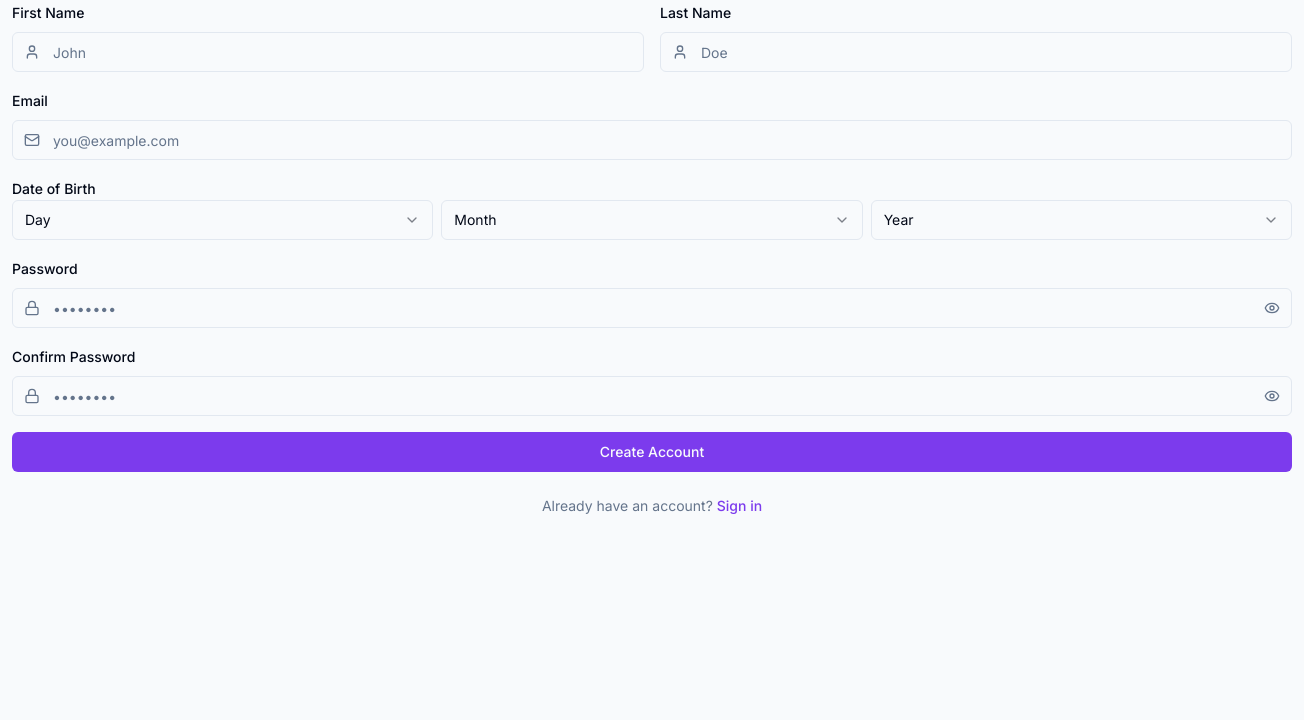
Test: SignupForm › should show password length error if less than 8 characters
The width and height of the screenshot is (1304, 720).
Step 1. Type "Short1!" into the password field labelled "Password" → (652, 308), box [12,288,1292,328]
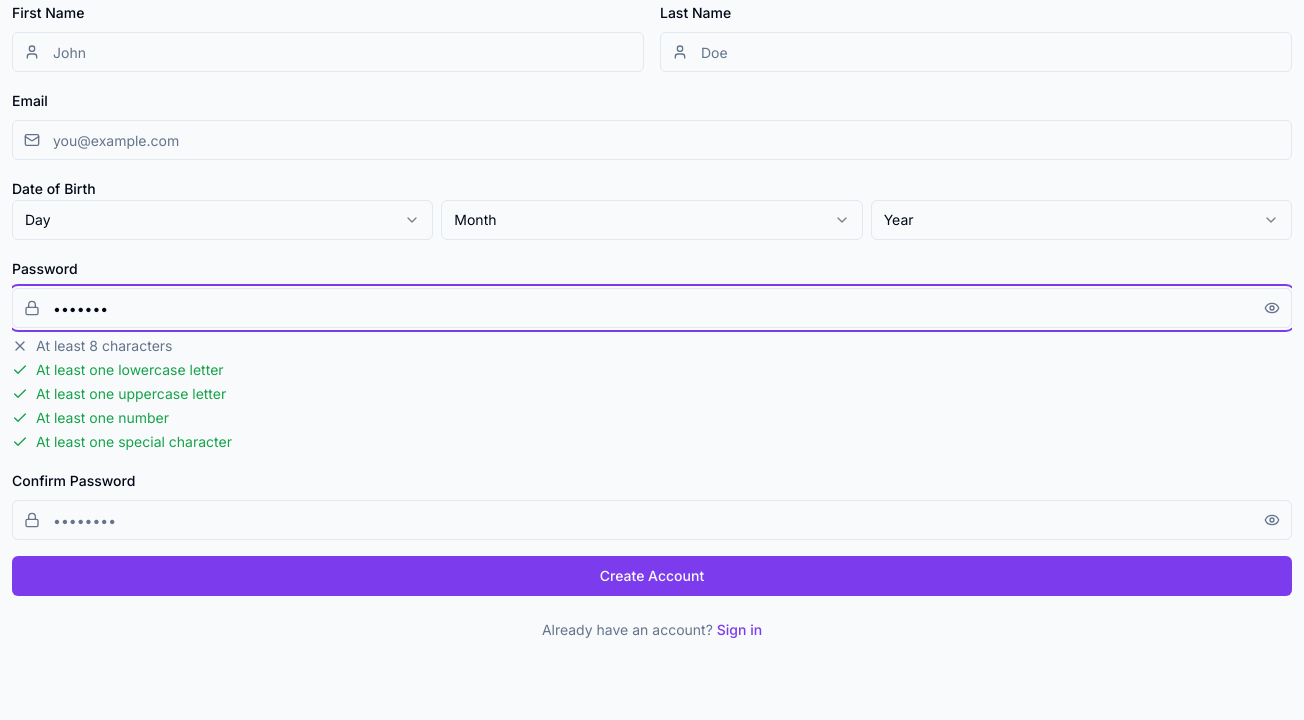
Step 2. Type "Short1!" into the password field labelled "Confirm Password" → (652, 520), box [12,500,1292,540]
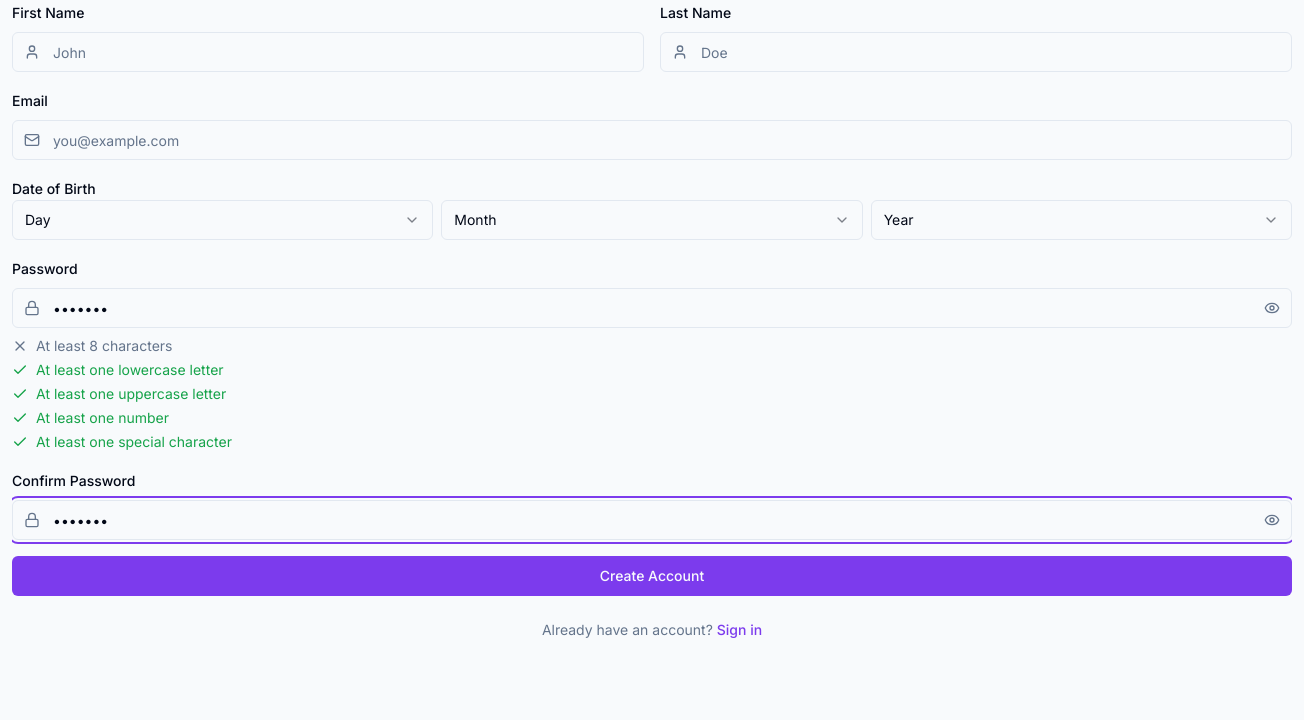
Step 3. Click the field labelled "First Name" → click(328, 52), box [12,32,644,72]
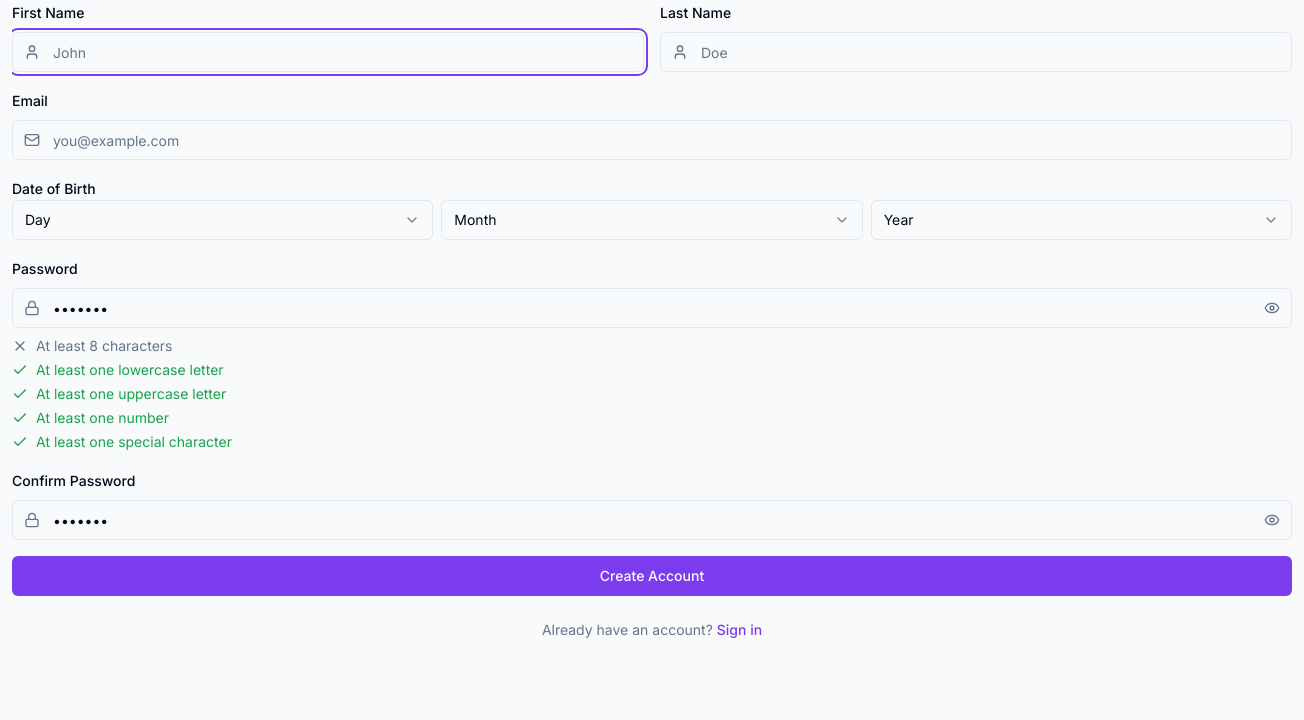
Step 4. Click the button "Create Account" → click(652, 576), box [12,556,1292,596]
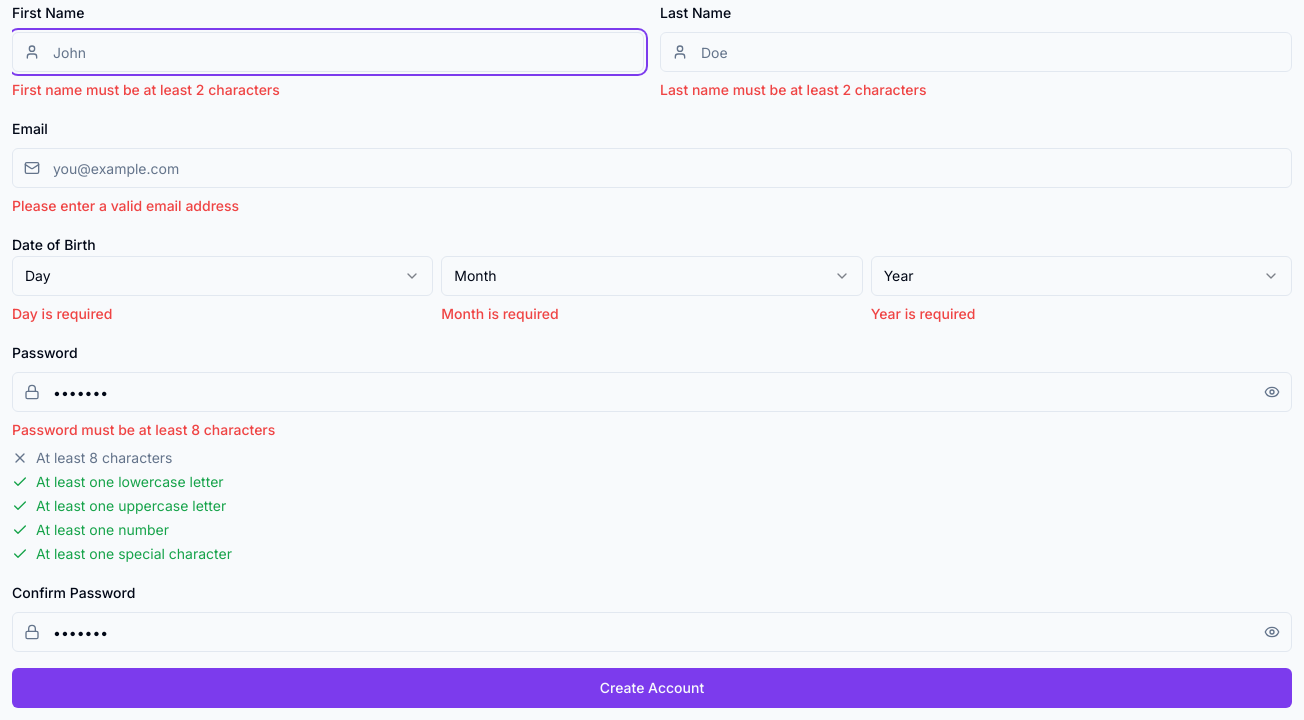
Expected: the text "Password must be at least 8 characters" is shown, [12,421,275,438]
